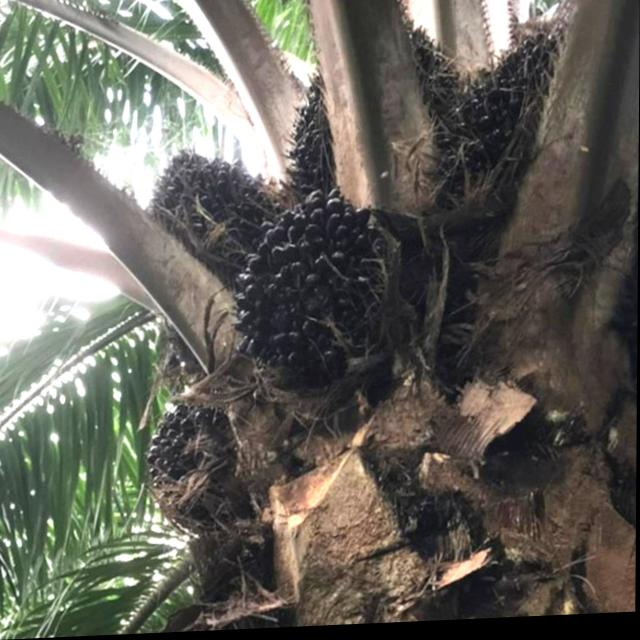almost: (229, 183, 428, 383)
